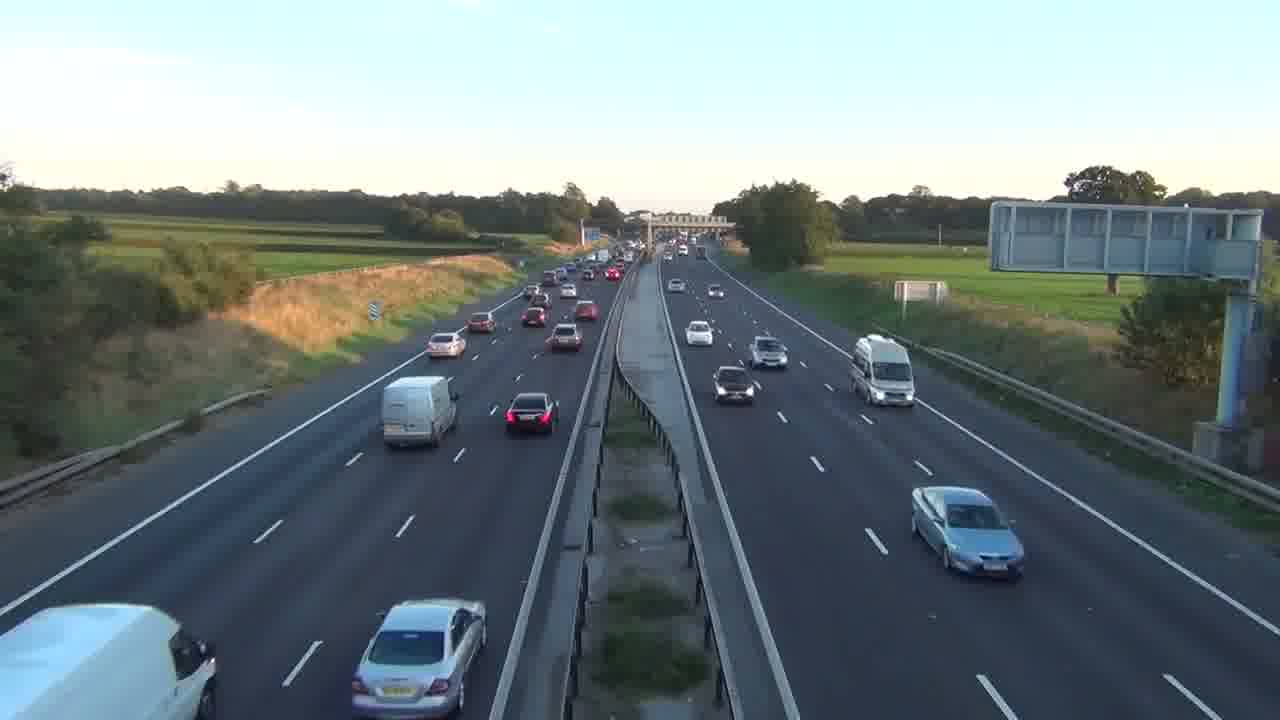car: (350, 597, 488, 717), (910, 484, 1026, 582), (504, 391, 560, 436), (712, 364, 759, 406), (748, 338, 789, 370), (424, 331, 467, 359), (547, 322, 583, 353), (685, 320, 715, 347), (574, 299, 599, 322), (520, 307, 547, 327)
truck: (1, 601, 219, 718), (381, 374, 458, 449), (850, 333, 916, 408)
